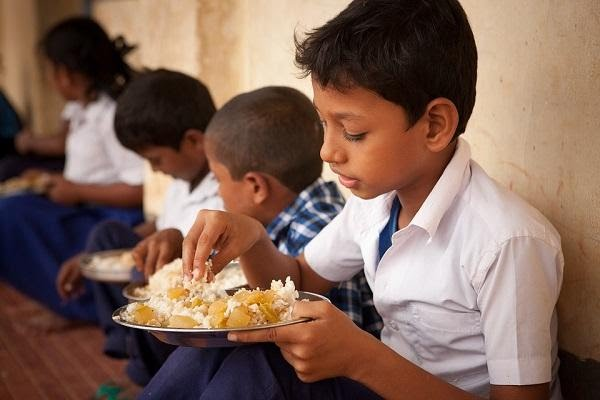student: (295, 17, 491, 197), (201, 96, 327, 222), (114, 76, 215, 179), (37, 23, 129, 101)
